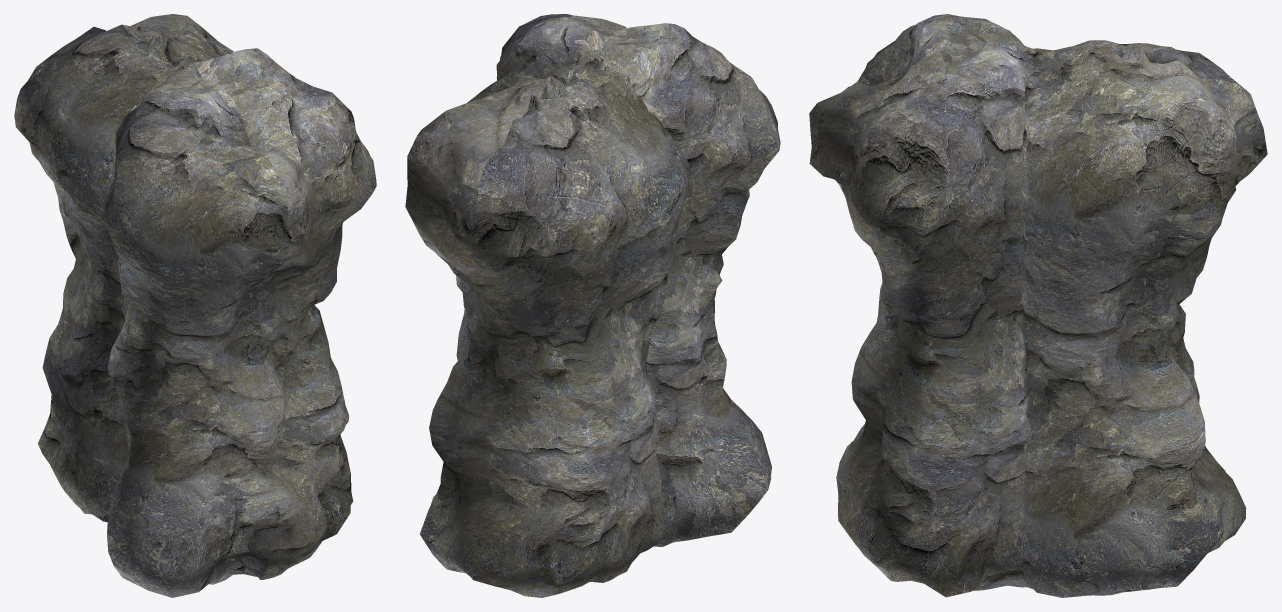
Rendered from Rock_big.FBX.
3 renders of one model, left to right at view 1: azimuth 30°, elevation 25°; view 2: azimuth 150°, elevation 25°; view 3: azimuth 270°, elevation 25°, orthographic. The views are drawn at different scales.
Visible parts, largest first — view 1: Plane11; view 2: Plane11; view 3: Plane11.
Part boxes in pixels (x1,y1,x2,y2): Plane11: (14, 14, 376, 597); Plane11: (405, 14, 780, 597); Plane11: (809, 14, 1267, 597).
Bounding box in the file's own units: 932 × 1682 × 1284.
Materials: 1 (1 with a texture image).
